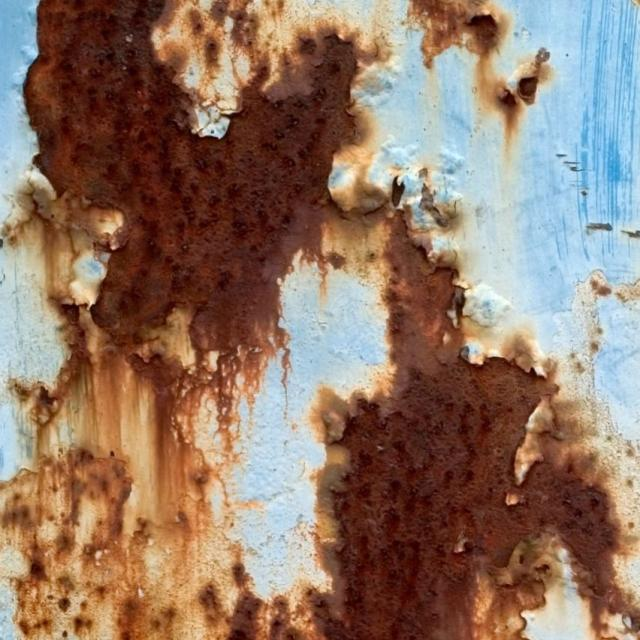Pitting Corrosion: (307, 205, 639, 639), (25, 0, 366, 415), (0, 450, 332, 639), (406, 0, 552, 138)
Uniform Corrosion: (74, 356, 188, 533)
